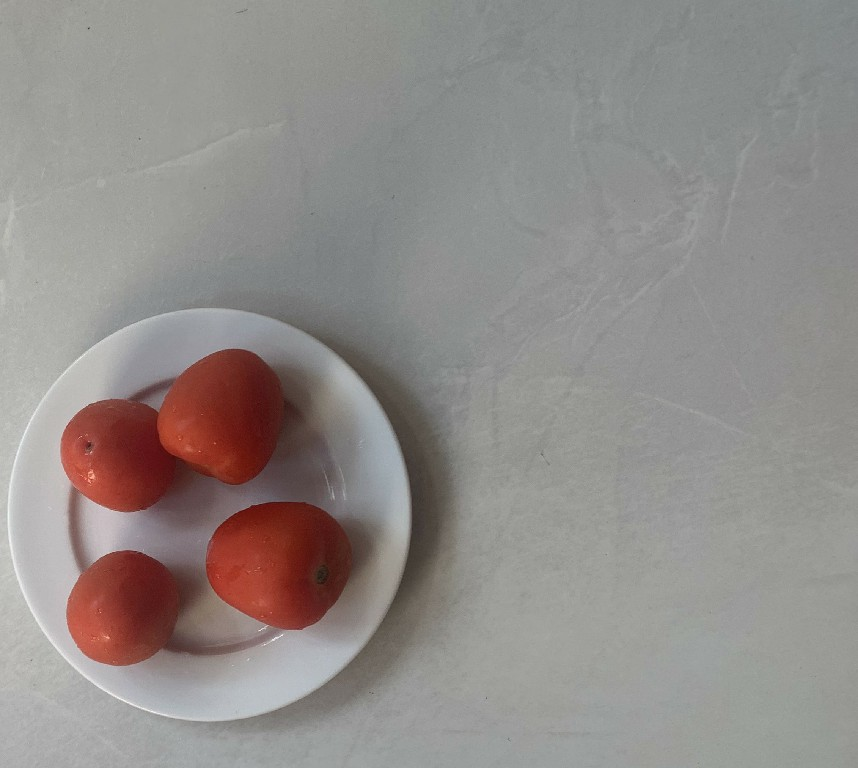OK: (200, 503, 362, 635), (149, 355, 287, 491), (60, 542, 184, 673), (54, 393, 181, 517)
